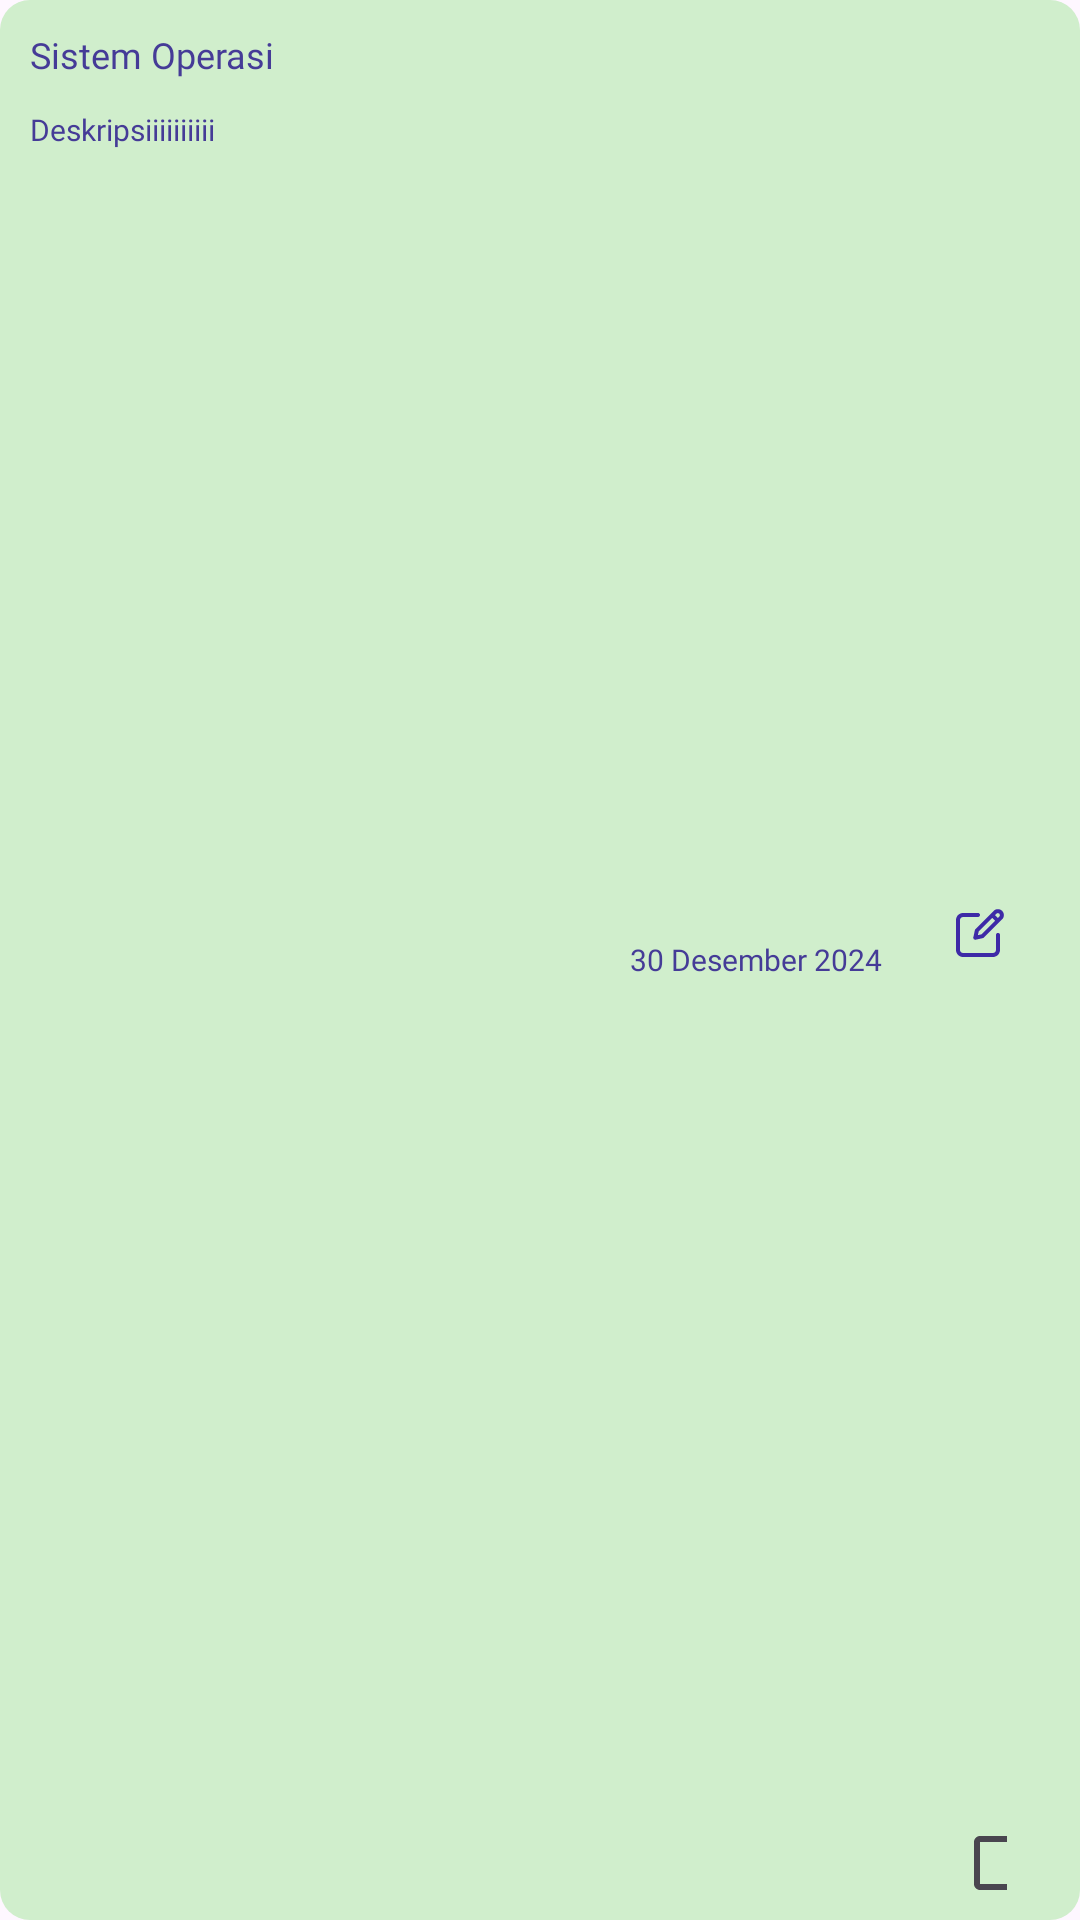

Icon click points for this 1080x1920 phone screenshot, format [x,y]:
edit: [980,933]
